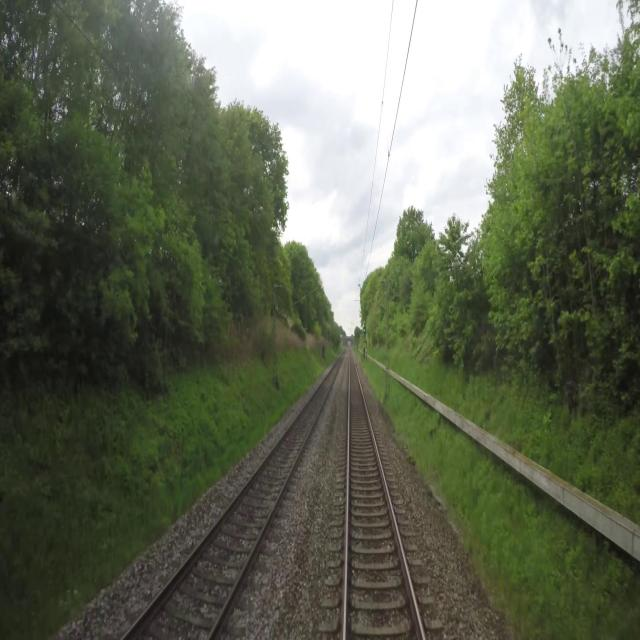rail-track: (126, 364, 337, 639), (347, 357, 421, 639)
